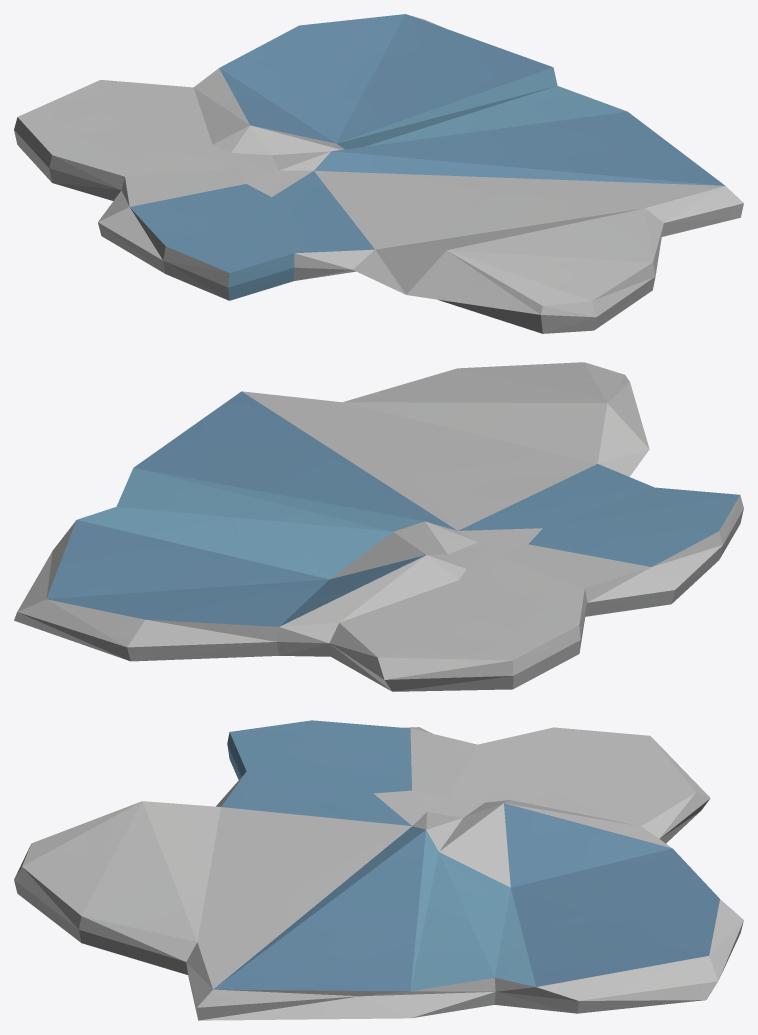
File: rubble_1.obj
The picture shows the model from 3 angles, top to bottom: view 1: azimuth 30°, elevation 25°; view 2: azimuth 150°, elevation 25°; view 3: azimuth 270°, elevation 25°; orthographic projection. The views are drawn at different scales.
Parts seen in each view (by area): view 1: rubble_1_Material; view 2: rubble_1_Material; view 3: rubble_1_Material.
Part boxes in pixels (bbox=[...]): rubble_1_Material: bbox=[14, 14, 743, 333]; rubble_1_Material: bbox=[14, 362, 743, 691]; rubble_1_Material: bbox=[14, 720, 743, 1020].
Bounding box in the file's own units: 1.74 × 0.2124 × 2.12.
